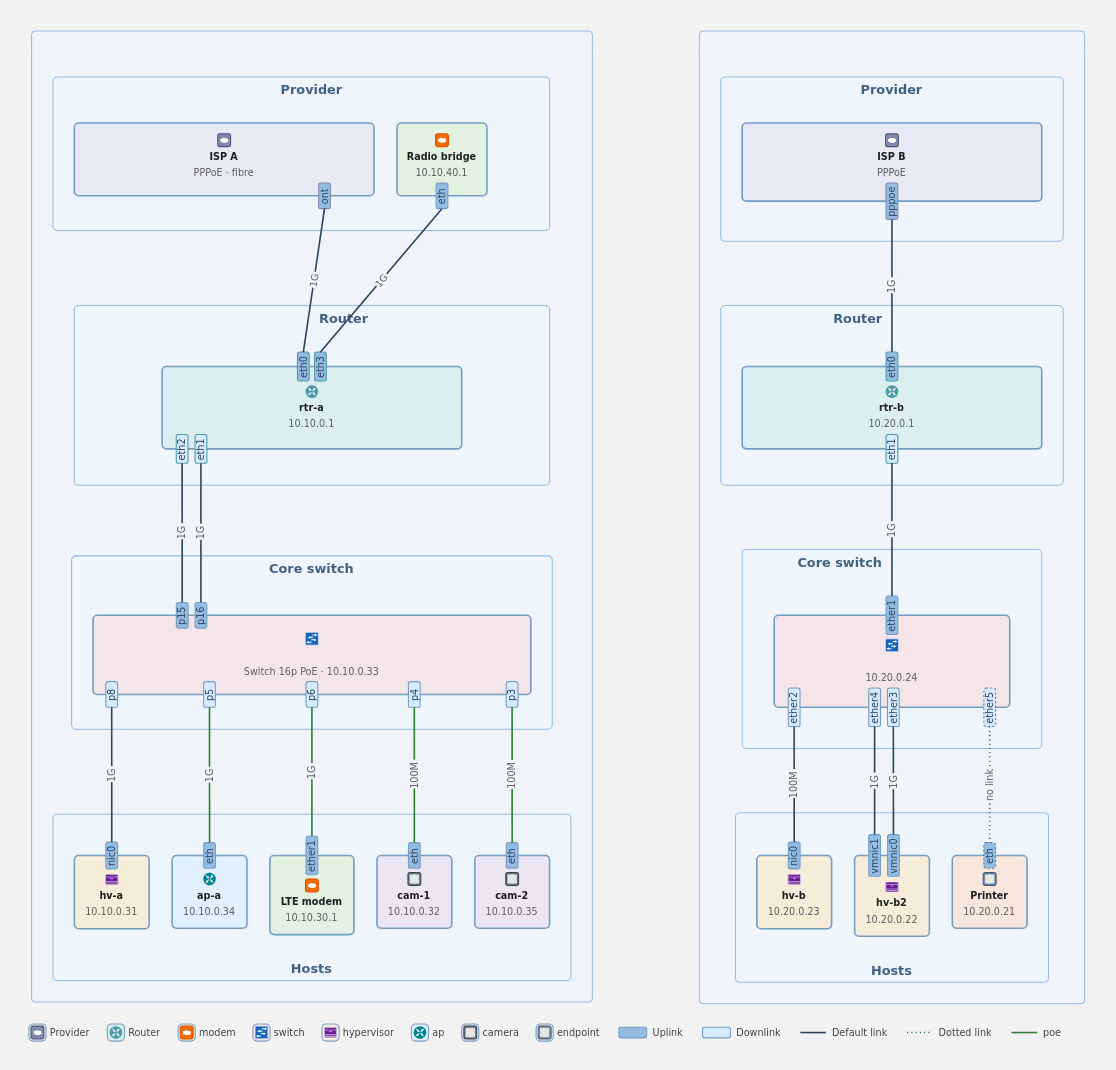
Image size: 1116x1070. Some labels were removed from this diagram. Grey dashed boxes stand in for pictures. The shapes that lost their labels are listed below. From the top down, each one's box as (x1, y1, x2, y2) in pixels, then its label:
(30, 30, 592, 1002): Site A · 10.10.0.0/24
(698, 30, 1085, 1004): Site B · 10.20.0.0/24
(92, 614, 531, 695): sw-a1
(773, 614, 1010, 708): sw-b
